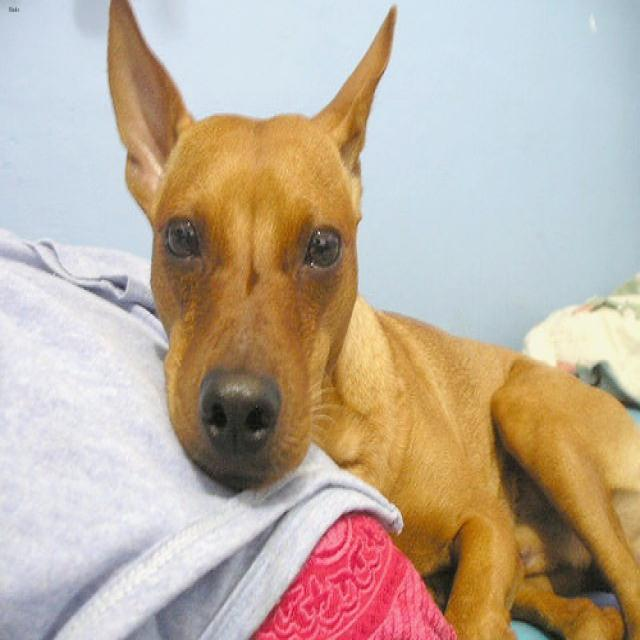dog-miniature_pinscher: (96, 2, 637, 637)
